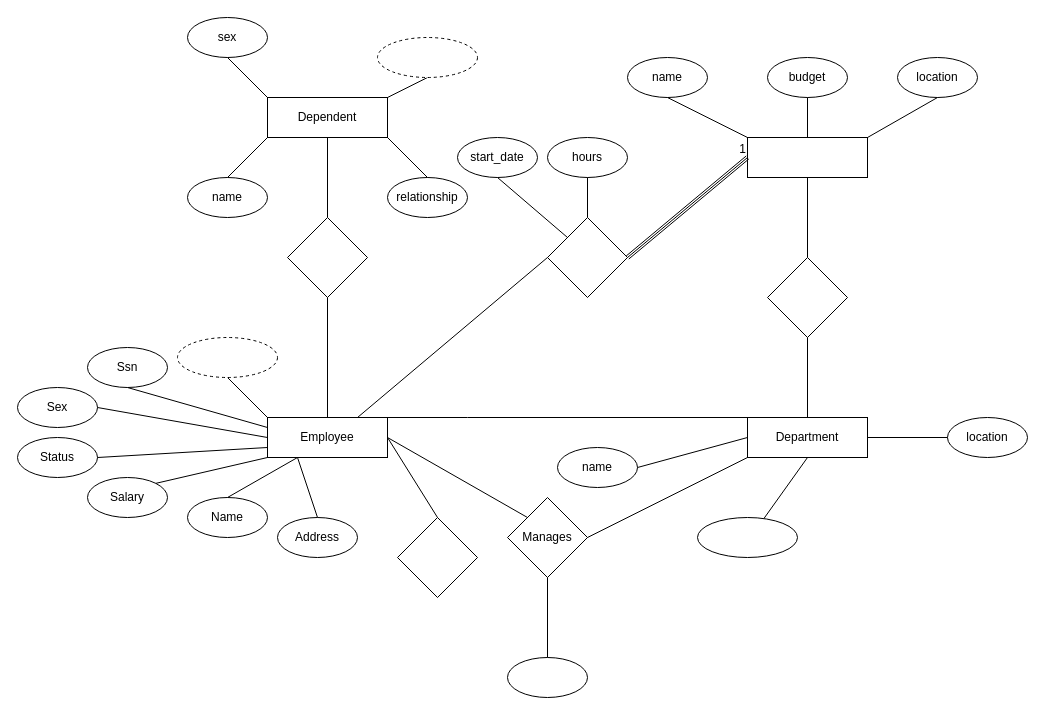
Image size: 1045x715. Some labels were removed from this diagram. The shapes that lost their labels are listed below. From the top down, each one's centre as x and y in pixels, then its label:
At (427,57): "birth_date".
At (807,157): "Project".
At (327,257): "dependents".
At (587,257): "Works".
At (807,297): "Assigned To".
At (227,357): "Birth date".
At (437,557): "Supervison".
At (747,537): "no_of_employees".
At (547,677): "Start Date".
